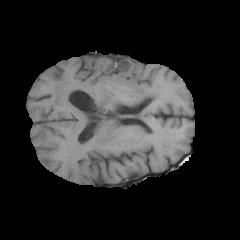glioma: (54, 60, 161, 117)
